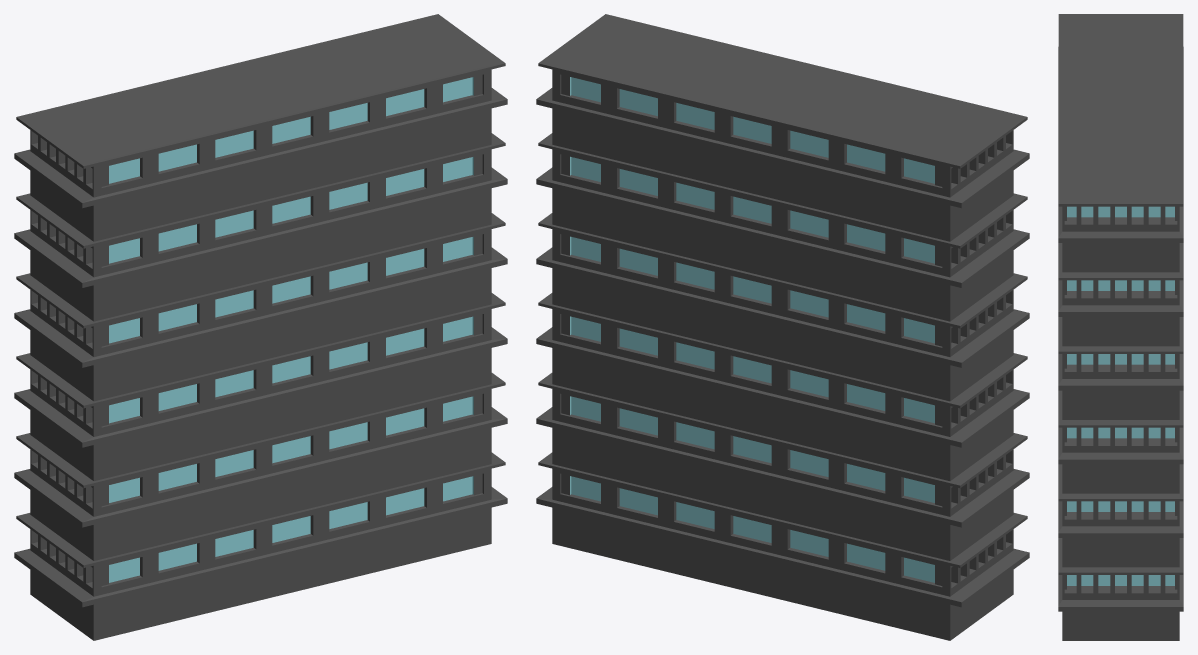
Rendered from Building 4.fbx.
The picture shows the model from 3 angles, left to right: view 1: azimuth 30°, elevation 25°; view 2: azimuth 150°, elevation 25°; view 3: azimuth 270°, elevation 25°; orthographic projection. The views are drawn at different scales.
Parts seen in each view (by area): view 1: Cube.003; view 2: Cube.003; view 3: Cube.003.
Boxes of the visible parts, box(x1,y1,x2,y2) form: Cube.003: box(14, 14, 507, 640); Cube.003: box(536, 14, 1029, 640); Cube.003: box(1058, 14, 1183, 640).
Size of the model in its own units: 11368 by 12225 by 3147.
